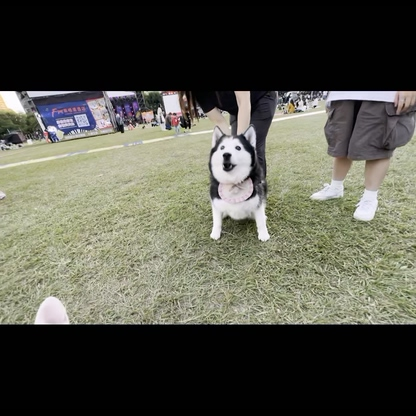husky: (198, 121, 279, 247)
